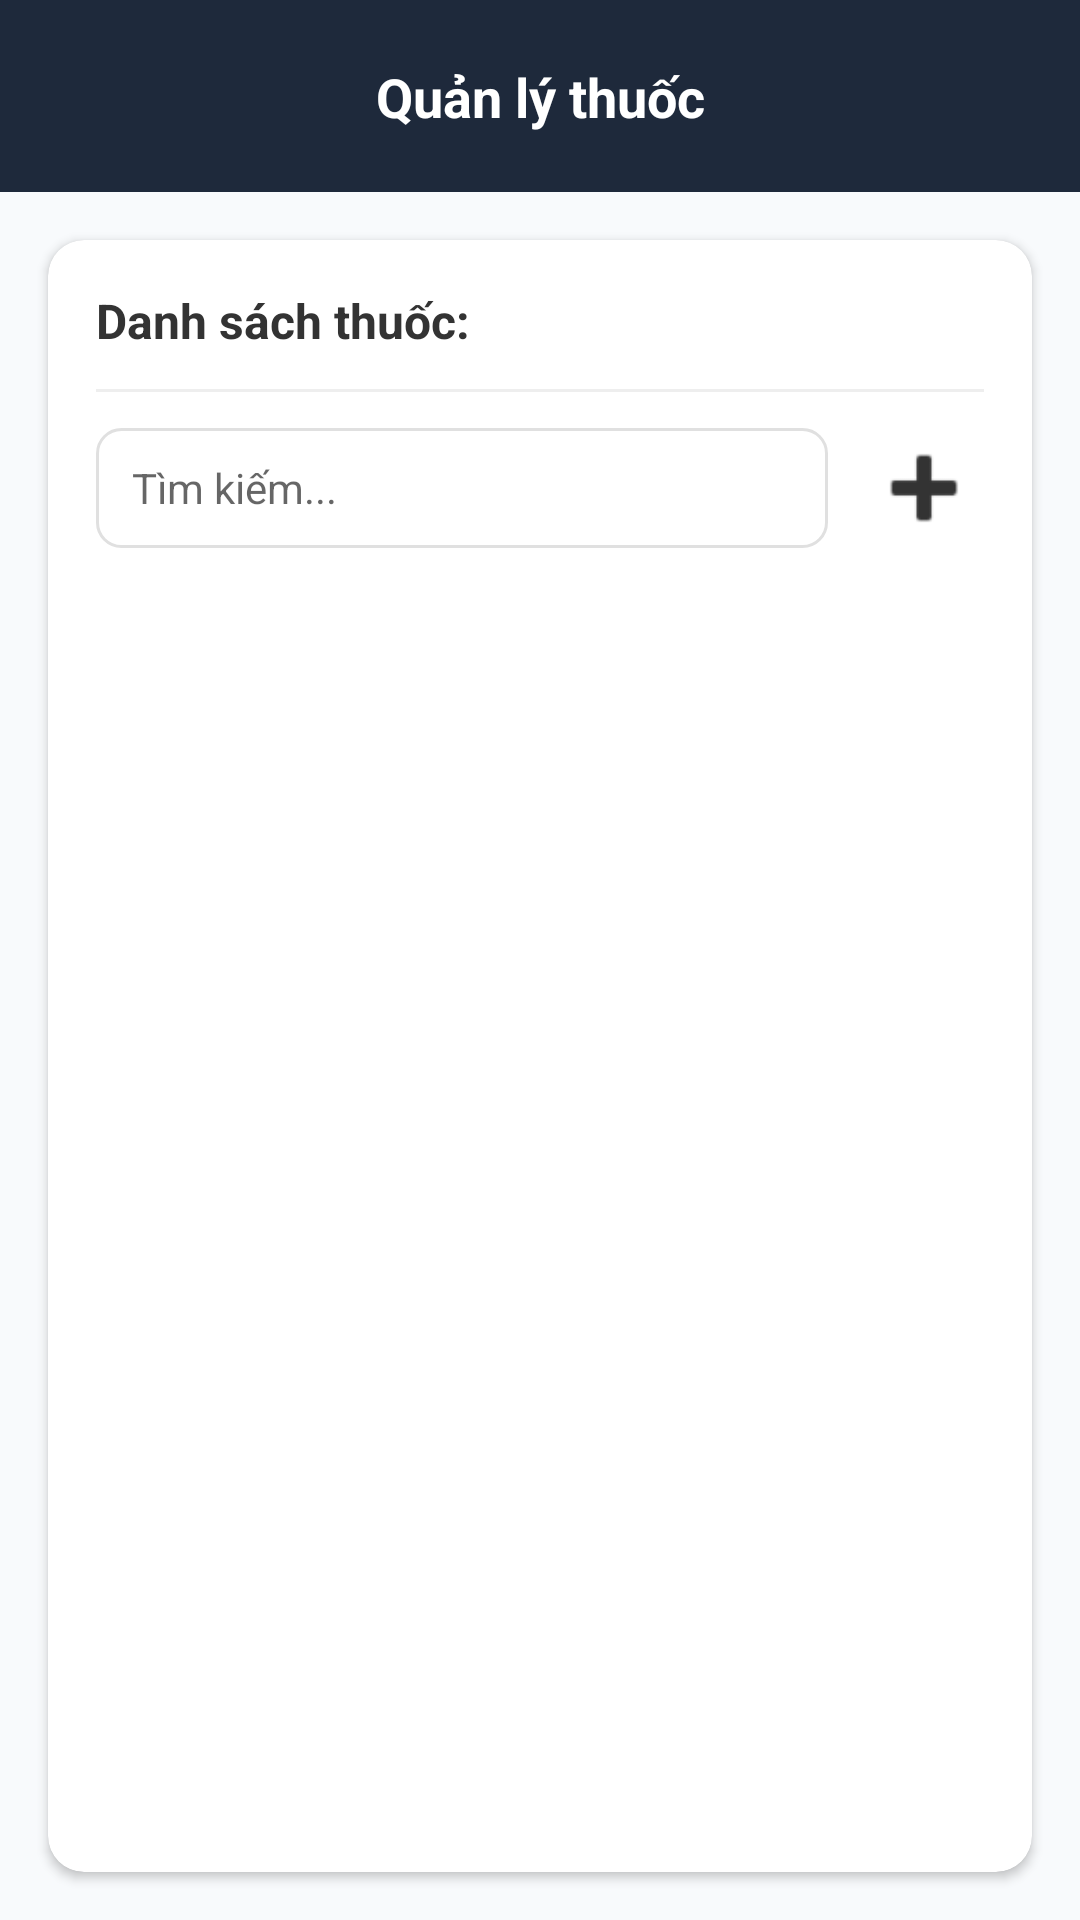

Where to tap for icons on this 1080w x 1920h app screen, as point (x, y):
add: point (924, 488)
